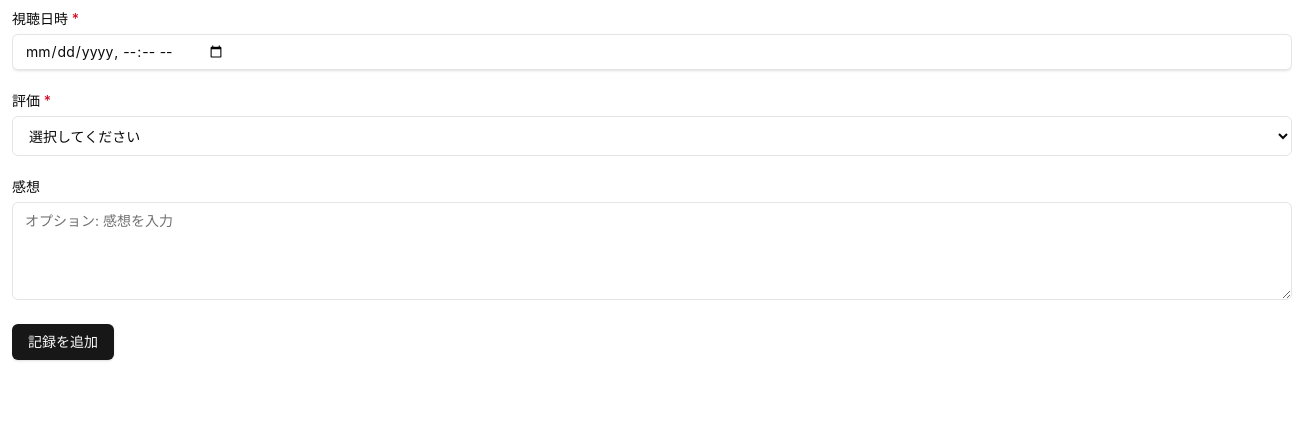
Scenario: AddViewingRecordForm › error handling › should display generic error message for unknown errors
Type "2025-01-20T19:30" into the field labelled "視聴日時 *".
click(652, 52); type("2025-01-20T19:30")  # box [12,34,1292,70]
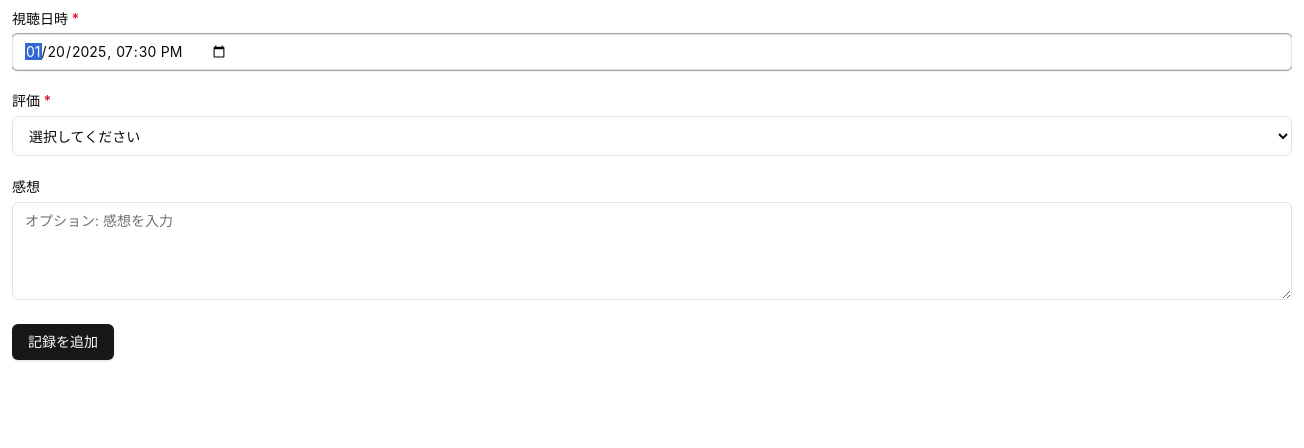
Select "2" in the dropdown labelled "評価 *" at (652, 136), box [12,116,1292,156]
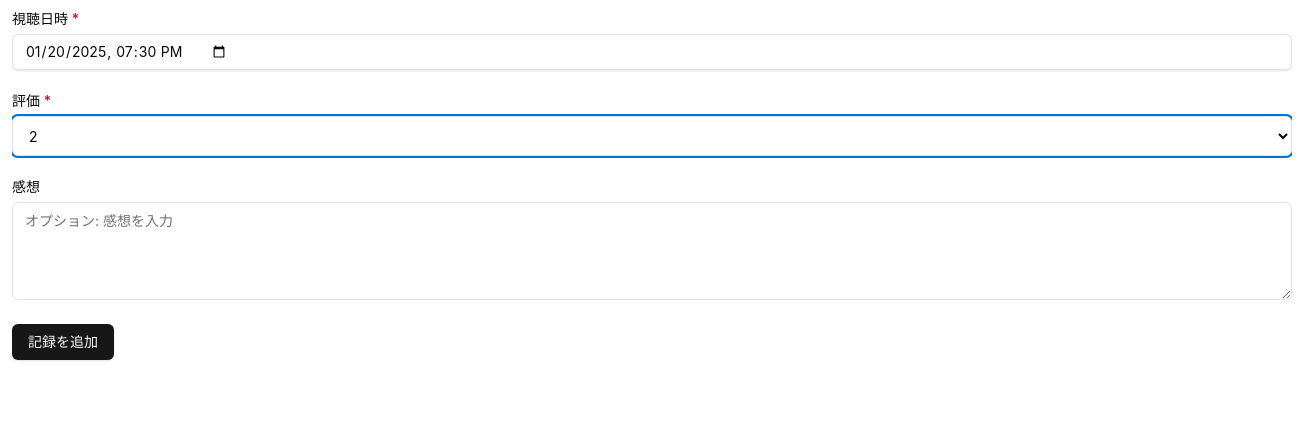
Click the button "記録を追加".
click(63, 342)  # box [12,324,114,360]
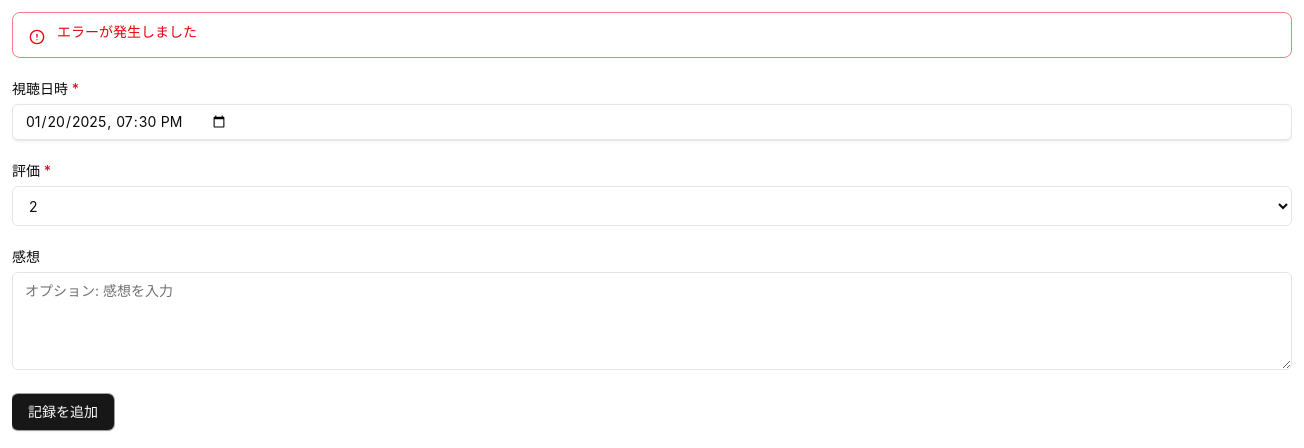
Now the text "エラーが発生しました" is shown, box [57,23,197,40]
